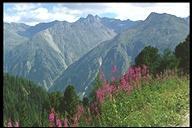cloud: (12, 4, 73, 17)
grass: (99, 75, 187, 121)
mountain: (5, 8, 186, 122)
